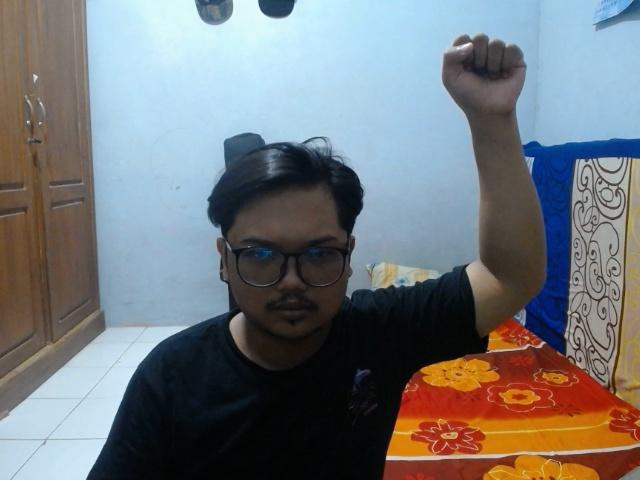Grab: (437, 29, 534, 123)
